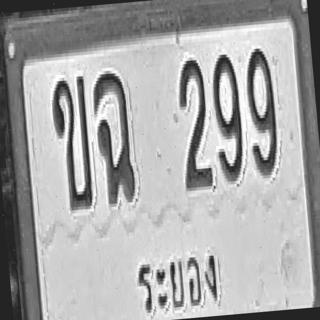A02: (50, 74, 94, 209)
A09: (91, 69, 136, 204)
N02: (175, 56, 213, 188)
N09: (209, 50, 246, 182), (243, 44, 280, 176)
P53: (126, 240, 227, 320)
